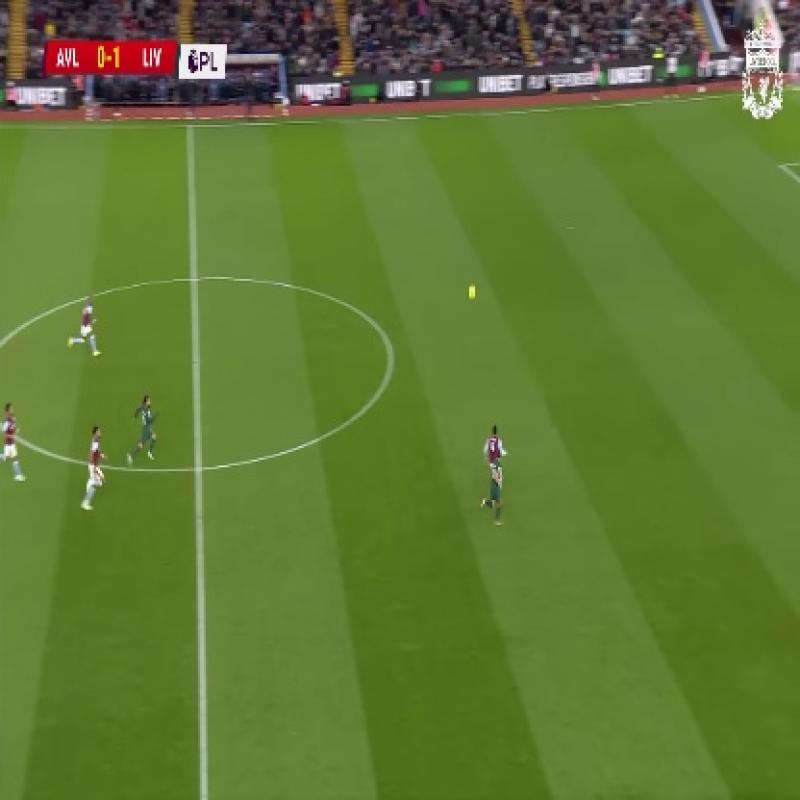13: (181, 112, 200, 140)
14: (177, 258, 210, 300)
15: (182, 446, 211, 486)
9: (768, 150, 790, 179)
c: (372, 330, 415, 378)
